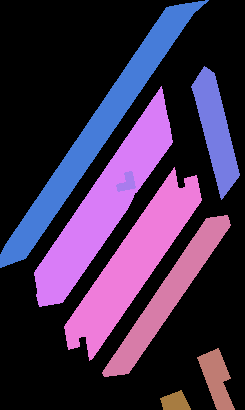parkingspot: (0, 0, 208, 267), (34, 86, 168, 296), (84, 175, 201, 360), (64, 167, 180, 349), (102, 215, 230, 376), (36, 187, 137, 306), (191, 66, 239, 199), (129, 119, 172, 192), (197, 348, 234, 410), (160, 390, 190, 410)
